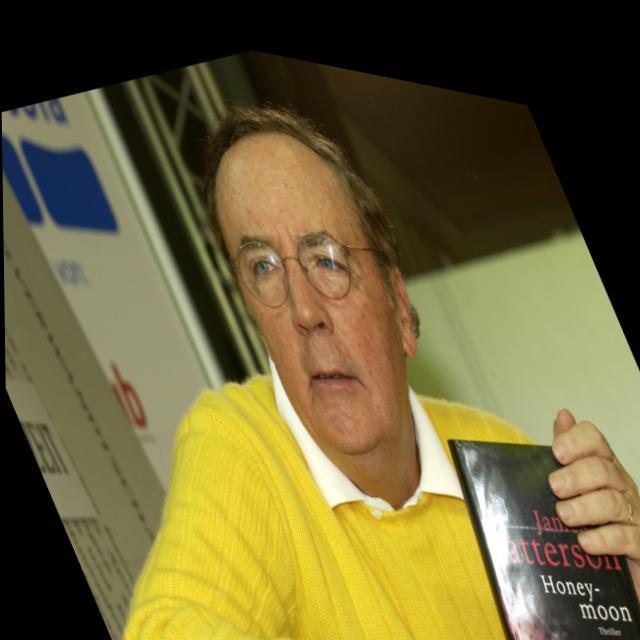Nonhelmet: (195, 102, 428, 456)
